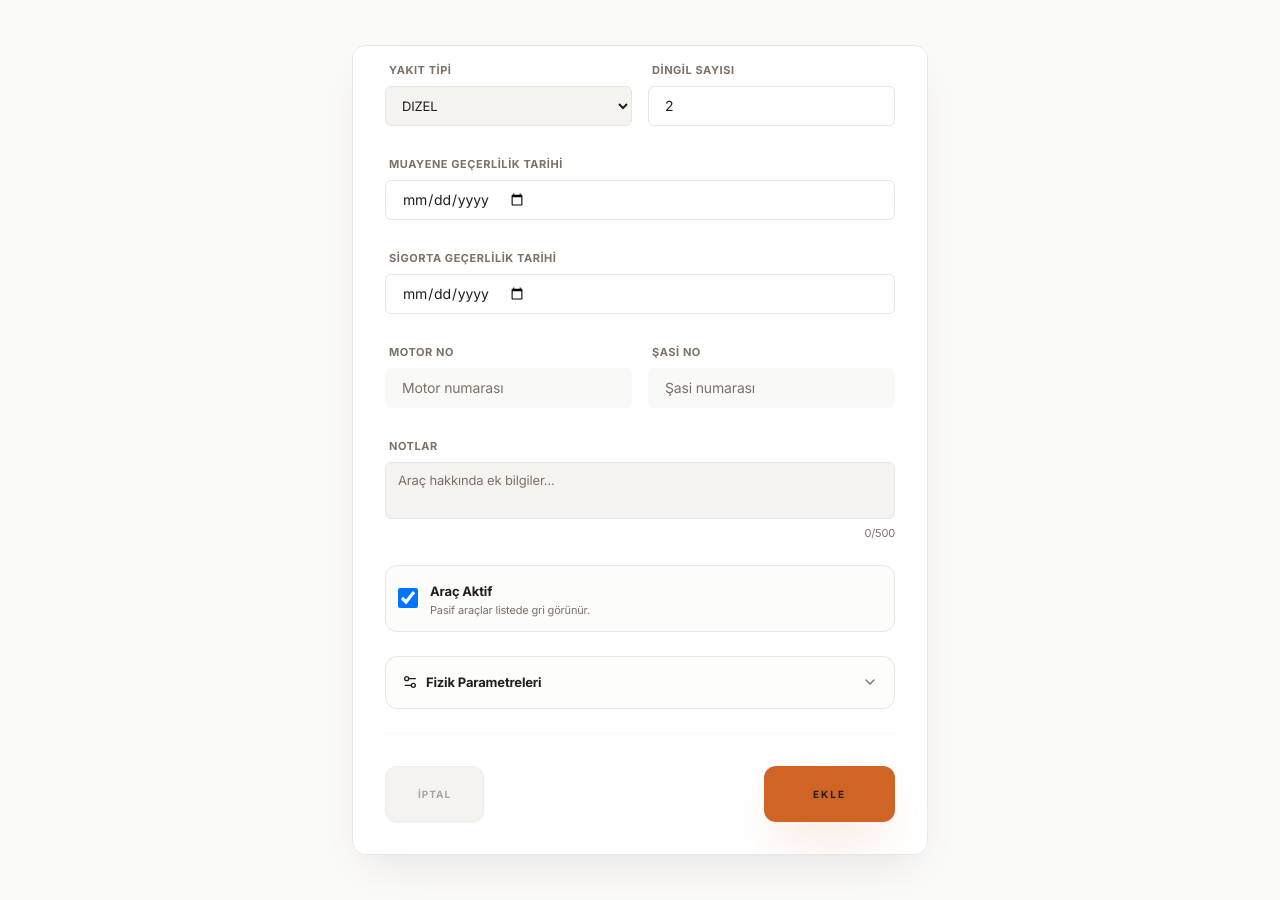
Test: VehicleModal › shows validation error when plate is empty on submit
(page scrolled)
Note: Click the create/submit button without filling required fields
Click the button "Ekle". click: (830, 794)
box: top-left (764, 766), bottom-right (895, 822)
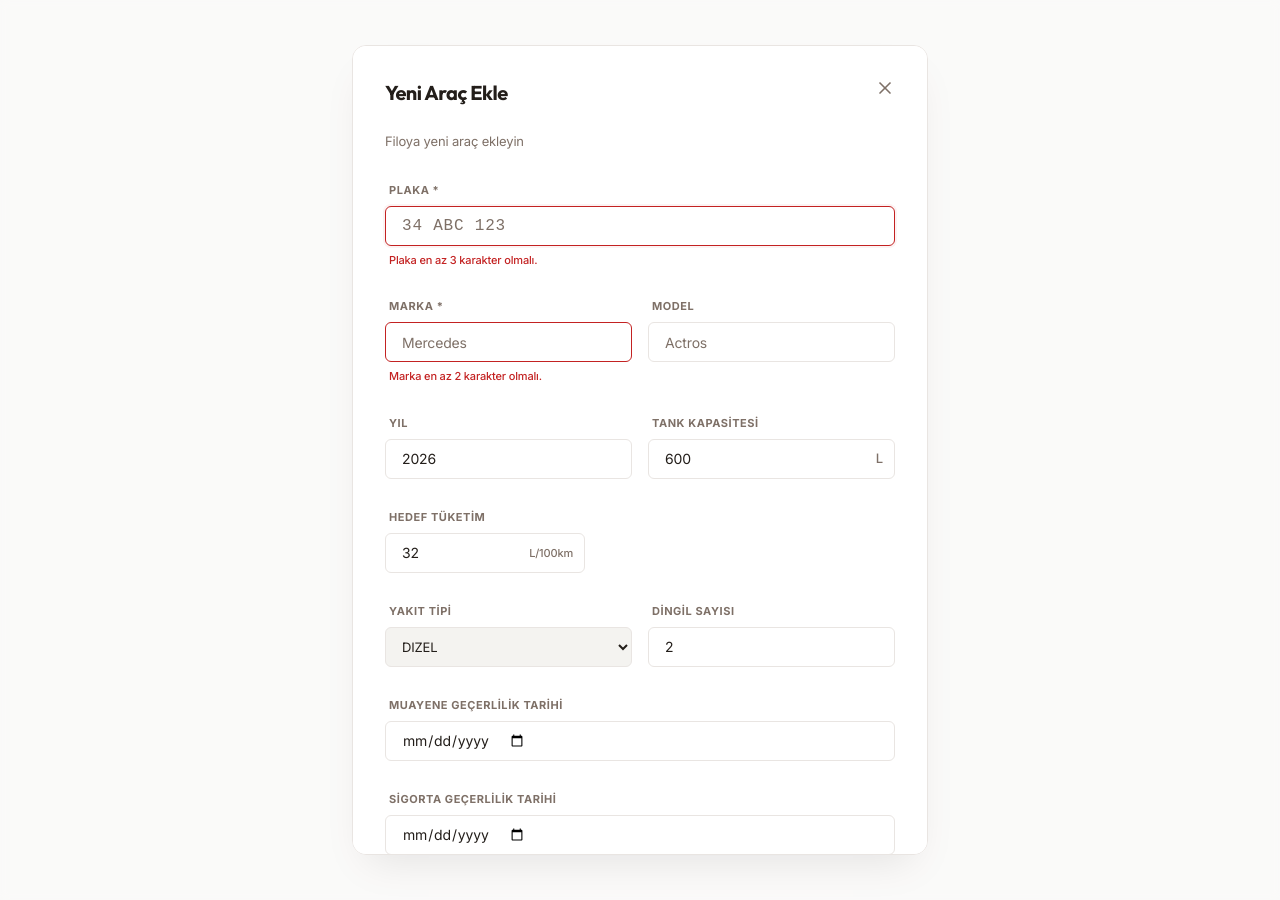
Check: the text "Plaka en az 3 karakter olmalı." is shown, box top-left (389, 252), bottom-right (537, 266)
